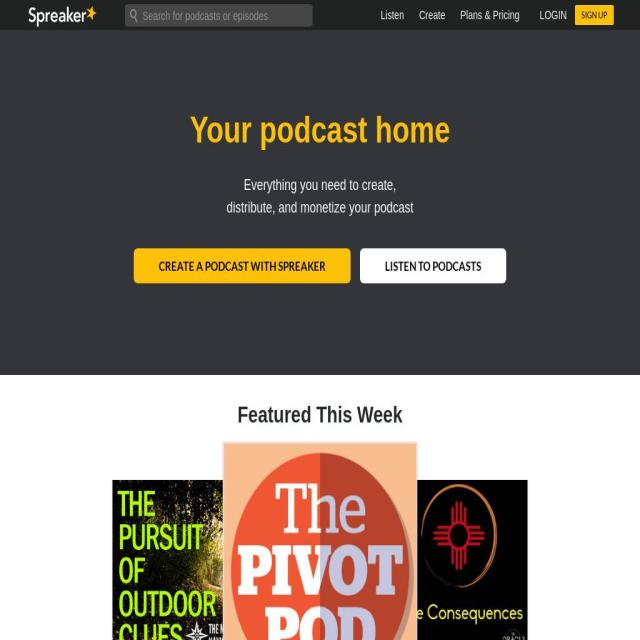button: (133, 248, 351, 284), (360, 248, 506, 284), (455, 0, 525, 30), (26, 6, 97, 27), (414, 0, 451, 30), (376, 0, 410, 30), (539, 0, 567, 30), (575, 5, 614, 26)
field: (142, 7, 308, 24), (130, 8, 138, 22)
heading: (189, 108, 450, 151), (237, 402, 402, 428)
image: (224, 443, 361, 627), (112, 480, 250, 640), (390, 480, 528, 640)
text: (226, 199, 414, 216), (243, 177, 396, 193), (460, 8, 520, 22), (418, 8, 446, 22), (380, 8, 404, 22)
